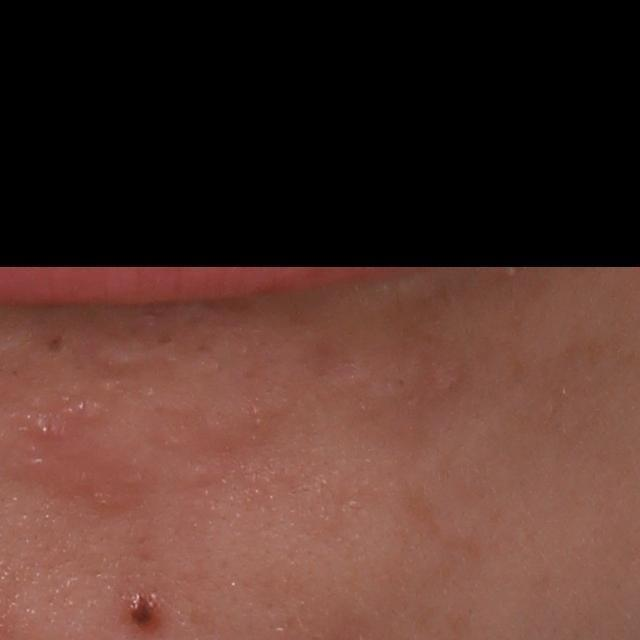hypertrophic_scar: (84, 341, 177, 381)
